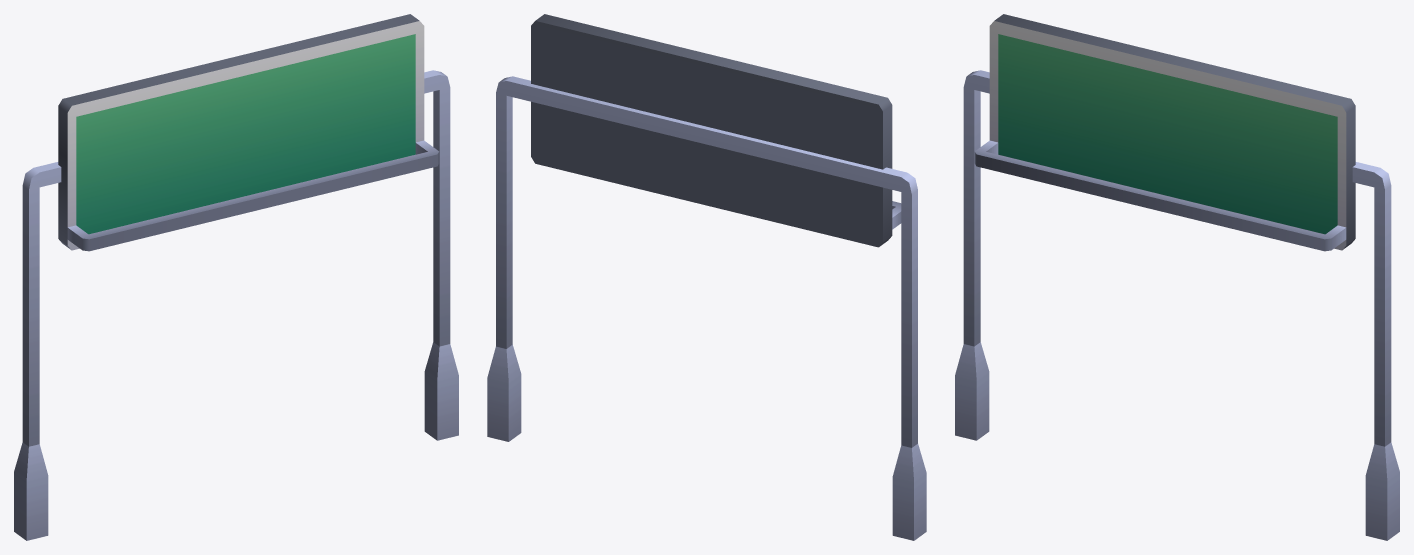
File: obstacle_over_signwide.glb
3 renders of one model, left to right at view 1: azimuth 30°, elevation 25°; view 2: azimuth 150°, elevation 25°; view 3: azimuth 330°, elevation 25°, orthographic.
Visible parts, largest first — view 1: sign-highway-wide; view 2: sign-highway-wide; view 3: sign-highway-wide.
Part boxes in pixels (left/top/right/bottom): sign-highway-wide: left=14, top=14, right=458, bottom=540; sign-highway-wide: left=487, top=14, right=926, bottom=540; sign-highway-wide: left=955, top=14, right=1399, bottom=540.
Size of the model in its own units: 1.8 by 1.7 by 0.2399.
1 material, 1 textured.
